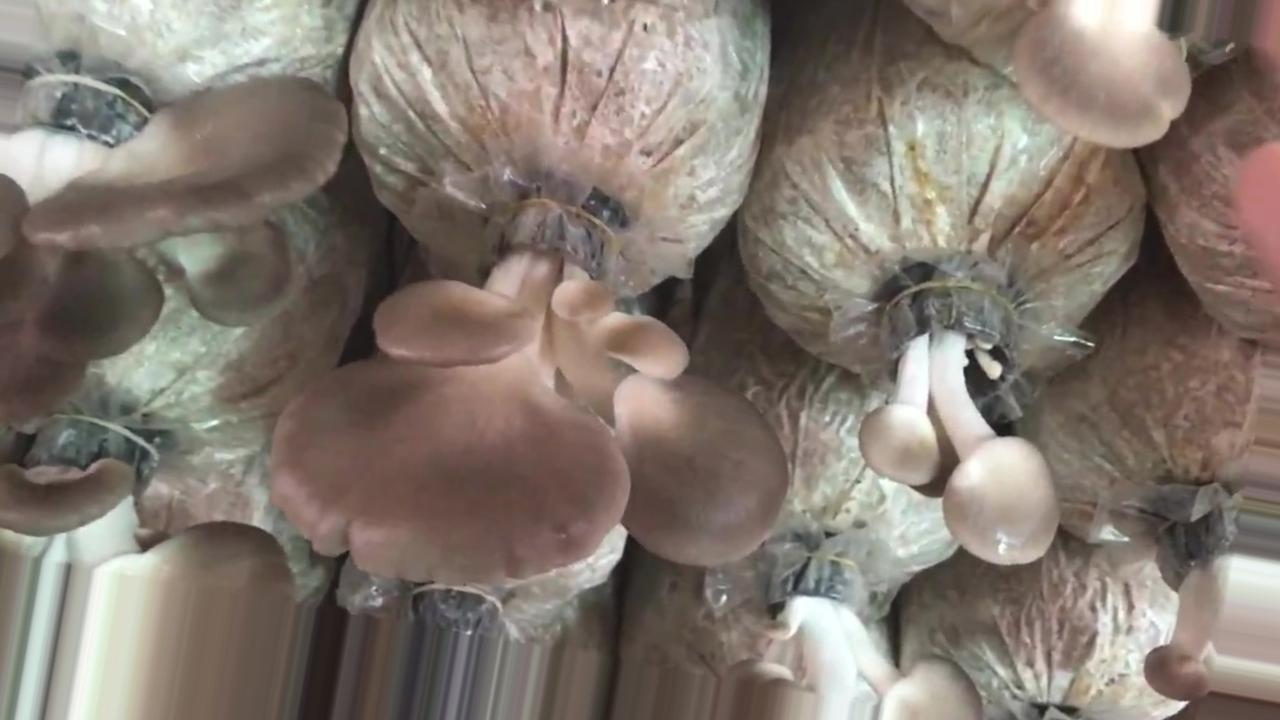nam: (271, 182, 784, 589), (1, 70, 342, 417), (1, 430, 296, 720), (856, 262, 1060, 568), (719, 552, 978, 720), (1143, 487, 1280, 699), (1013, 1, 1191, 149)
